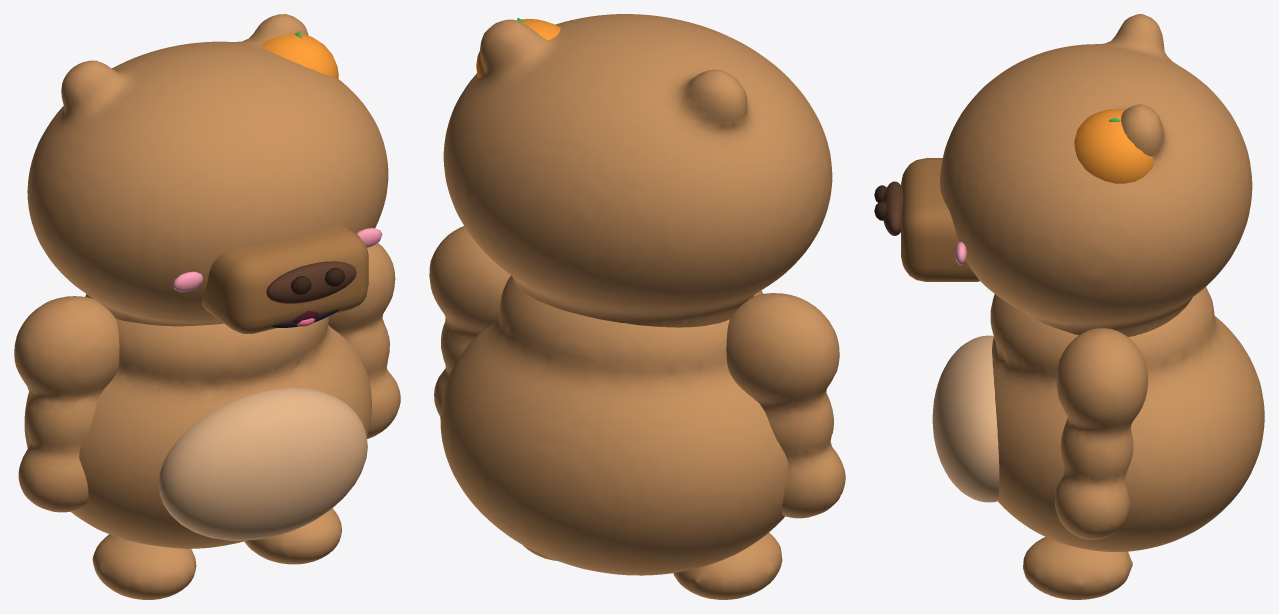
Rendered from capybara.glb.
The picture shows the model from 3 angles, left to right: view 1: azimuth 30°, elevation 25°; view 2: azimuth 150°, elevation 25°; view 3: azimuth 270°, elevation 25°; orthographic projection. The views are drawn at different scales.
Parts seen in each view (by area): view 1: head_mesh, body_mesh, belly, arm_R_mesh, arm_L_mesh, foot_R_mesh, foot_L_mesh, cheeks; view 2: head_mesh, body_mesh, arm_R_mesh, arm_L_mesh, foot_R_mesh; view 3: head_mesh, body_mesh, arm_L_mesh, belly, foot_L_mesh.
Boxes of the visible parts, box(x1,y1,x2,y2) form: head_mesh: box(27, 14, 388, 333); body_mesh: box(24, 294, 371, 548); belly: box(158, 387, 367, 540); arm_R_mesh: box(14, 296, 119, 512); arm_L_mesh: box(328, 243, 400, 438); foot_R_mesh: box(92, 534, 196, 599); foot_L_mesh: box(244, 508, 341, 564); cheeks: box(173, 228, 382, 292); head_mesh: box(443, 14, 832, 327); body_mesh: box(440, 275, 788, 575); arm_R_mesh: box(726, 293, 845, 518); arm_L_mesh: box(429, 226, 510, 416); foot_R_mesh: box(673, 532, 782, 599); head_mesh: box(874, 14, 1252, 336); body_mesh: box(990, 287, 1264, 551); arm_L_mesh: box(1055, 328, 1148, 539); belly: box(932, 335, 999, 502); foot_L_mesh: box(1023, 537, 1132, 599).
Size of the model in its own units: 1.33 by 1.74 by 1.24.
